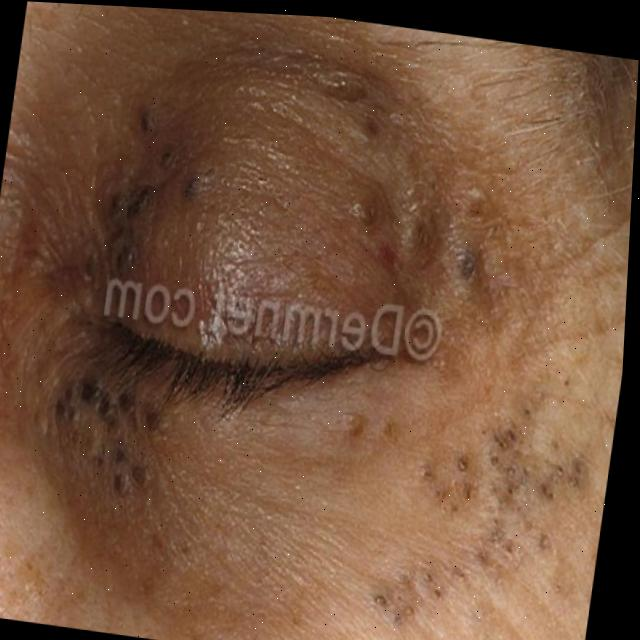Rosacea: (307, 80, 580, 312), (410, 370, 591, 621), (38, 361, 169, 502), (86, 110, 186, 285)
